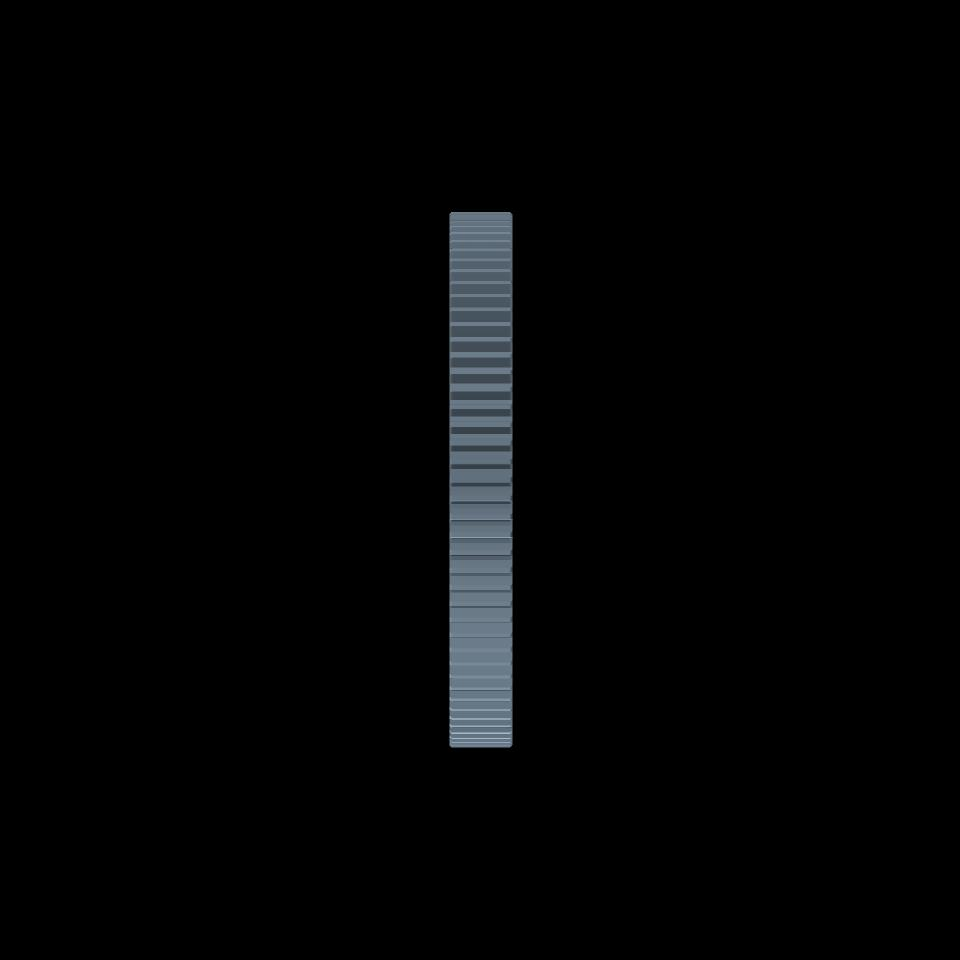Straight: (450, 211, 512, 747)
